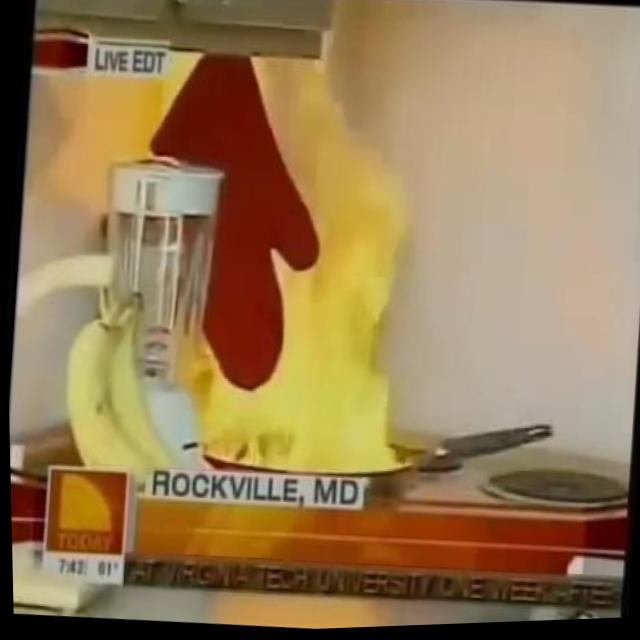fire: (123, 38, 456, 492)
